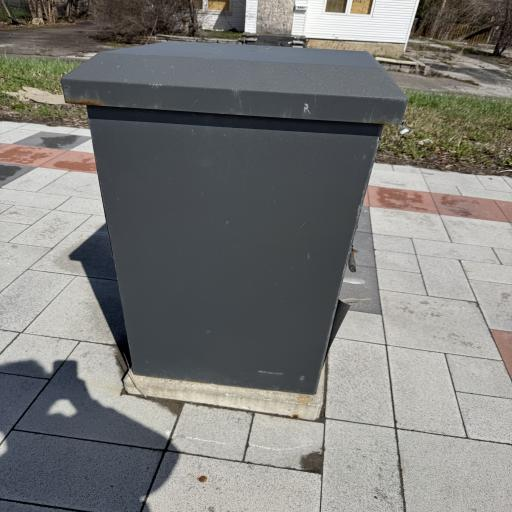Electrical Box: (62, 45, 412, 402)
